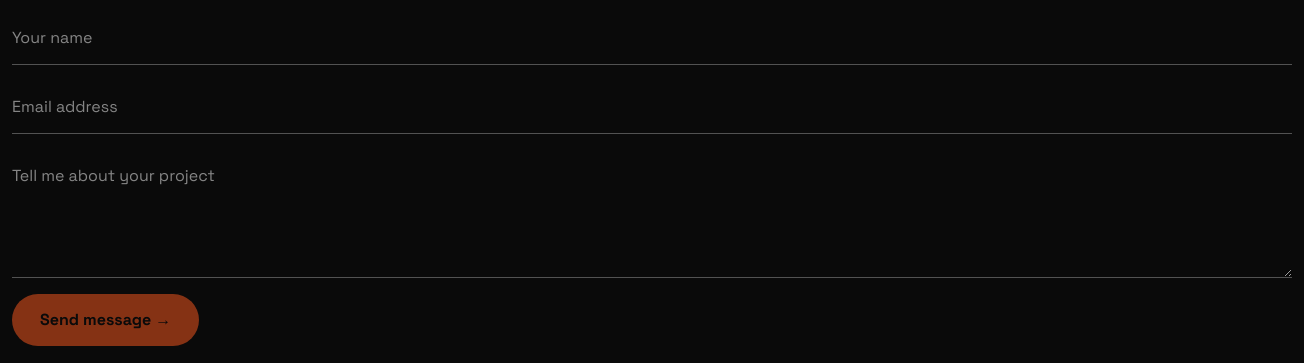
ContactForm Component › submits the form successfully and displays thank you message
Note: Fill out the form
Type "John Doe" into the field with placeholder "Your name". click: (652, 38)
box: [12,12,1292,65]
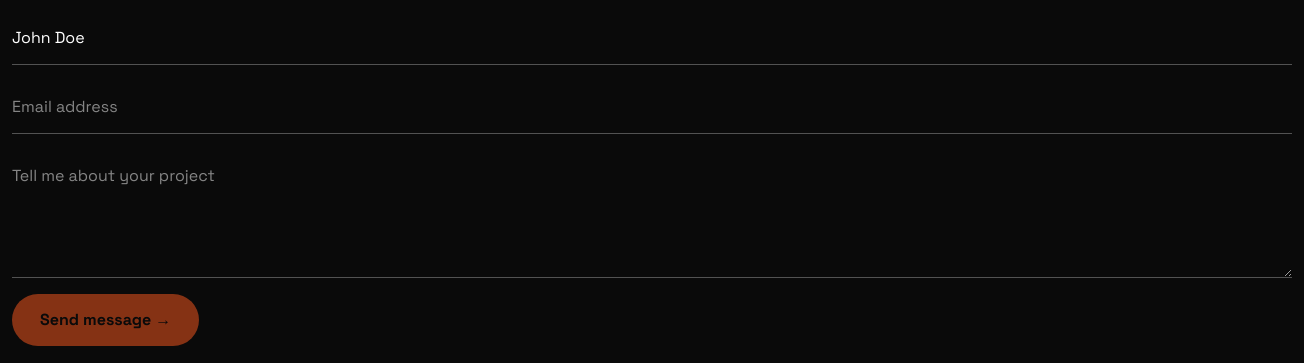
Type "john@example.com" into the field with placeholder "Email address". click: (652, 108)
box: [12,81,1292,134]
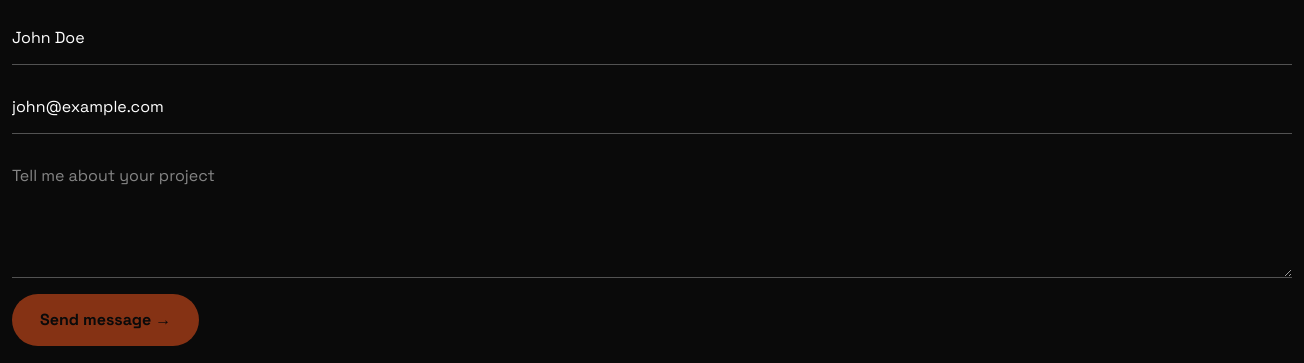
Type "Let's work together!" into the text box with placeholder "Tell me about your project". click: (652, 214)
box: [12,150,1292,278]
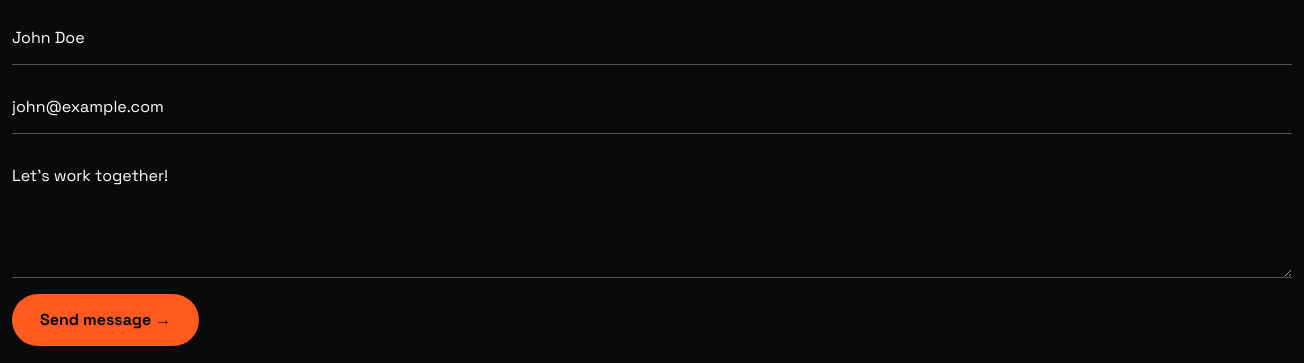
Note: Click submit
Click the button "Send message →". click: (106, 320)
box: [12,294,199,346]
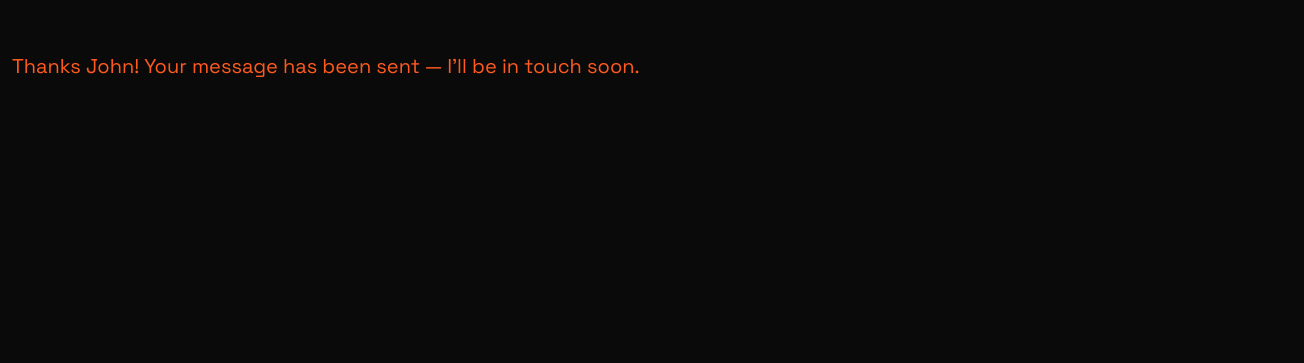
Check: the text "Thanks John! Your message has been sent" is shown, box [12,53,640,79]
